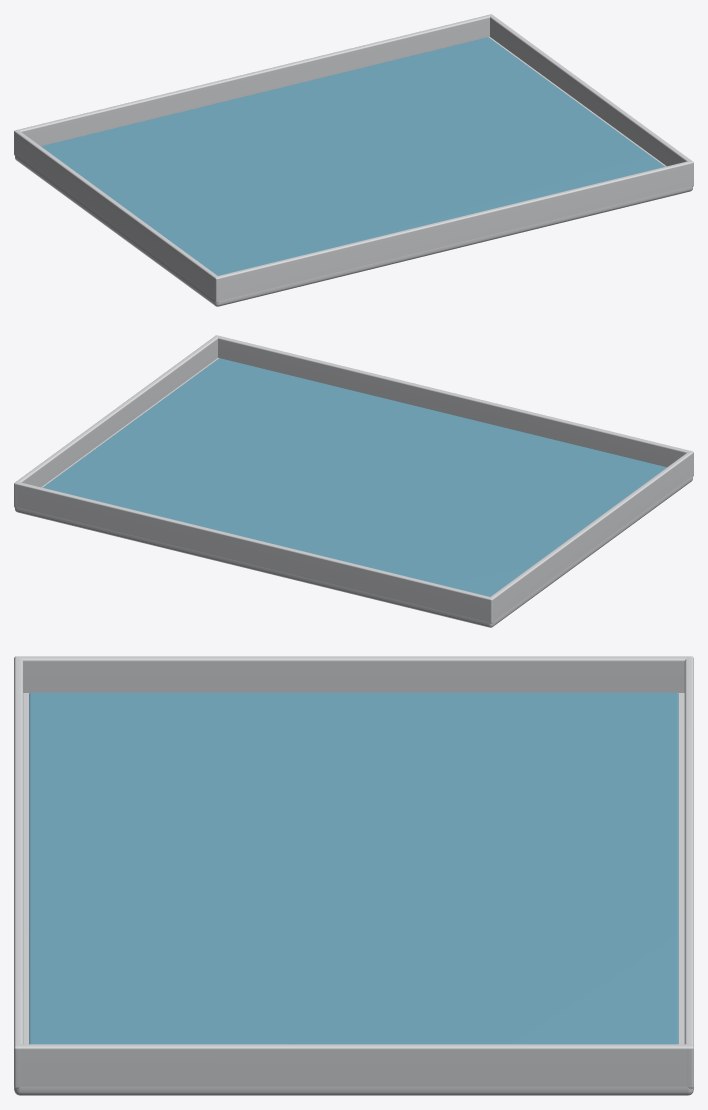
File: InstrumentTray.fbx
3 views of the same model, one above another, from view 1: azimuth 30°, elevation 25°; view 2: azimuth 150°, elevation 25°; view 3: azimuth 270°, elevation 25° (orthographic). The views are drawn at different scales.
Visible parts, largest first — view 1: Towel, TrayWall.001, TrayWall, TrayWall.003, TrayWall.002, TrayBase; view 2: Towel, TrayWall, TrayWall.001, TrayWall.003, TrayWall.002, TrayBase; view 3: Towel, TrayWall.002, TrayWall.003, TrayBase, TrayWall, TrayWall.001.
Part boxes in pixels (box(x1,y1,x2,y2)): Towel: box(41, 37, 664, 275); TrayWall.001: box(214, 161, 693, 302); TrayWall: box(14, 14, 492, 155); TrayWall.003: box(15, 131, 219, 301); TrayWall.002: box(490, 15, 692, 186); TrayBase: box(15, 37, 692, 306); Towel: box(43, 358, 666, 596); TrayWall: box(14, 482, 493, 623); TrayWall.001: box(215, 335, 693, 476); TrayWall.003: box(488, 452, 692, 623); TrayWall.002: box(14, 336, 217, 507); TrayBase: box(15, 358, 692, 627); Towel: box(29, 692, 678, 1044); TrayWall.002: box(14, 1044, 693, 1088); TrayWall.003: box(15, 656, 689, 692); TrayBase: box(14, 693, 693, 1095); TrayWall: box(684, 656, 693, 1088); TrayWall.001: box(14, 656, 23, 1088).
Bounding box in the file's own units: 0.6 × 0.036 × 0.44.
